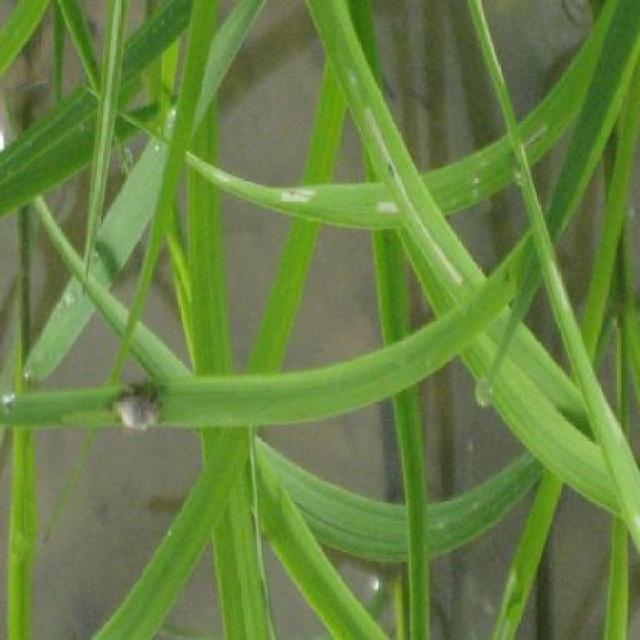rice-bug: (111, 382, 166, 436)
